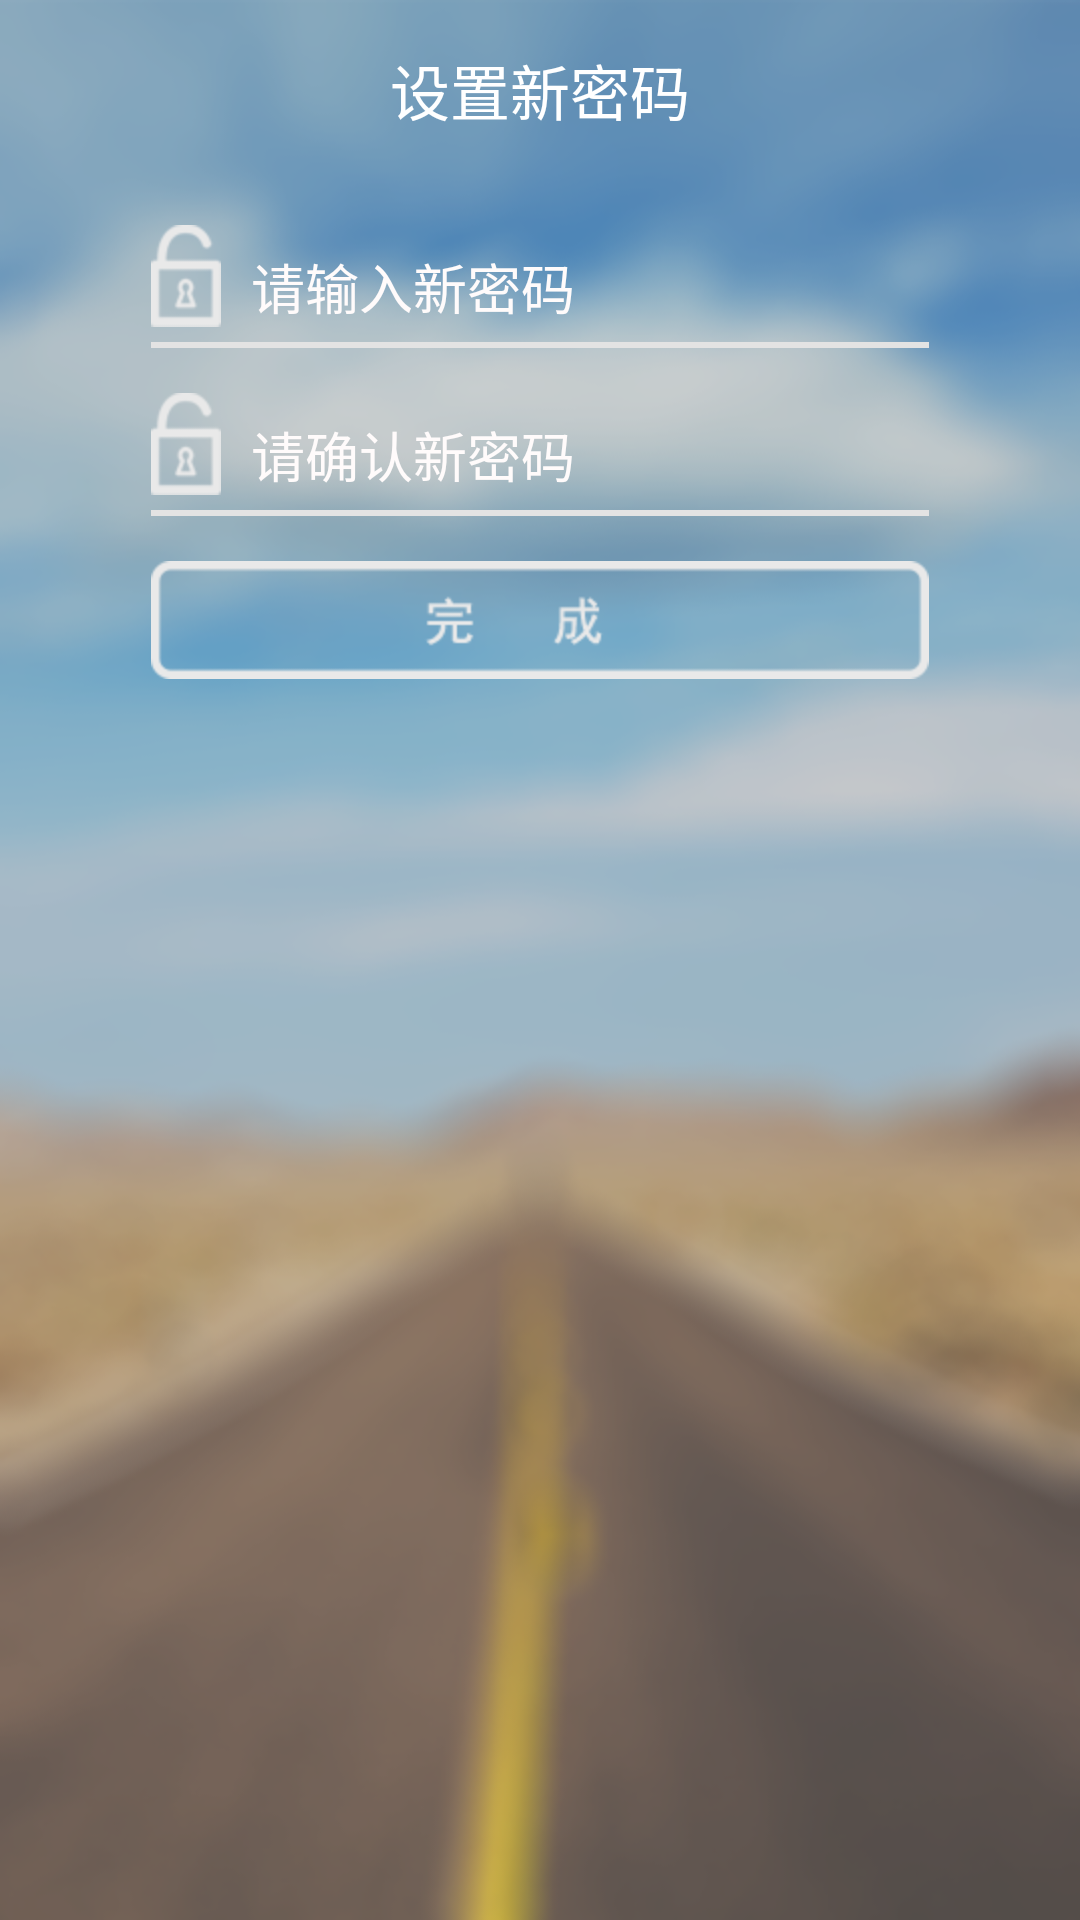

Screen size 1080 x 1920. Icon name, then its box in pixels as (x1, y1, x2, y2):
registration inputpassword: (151, 225, 221, 327), (151, 393, 221, 495)
